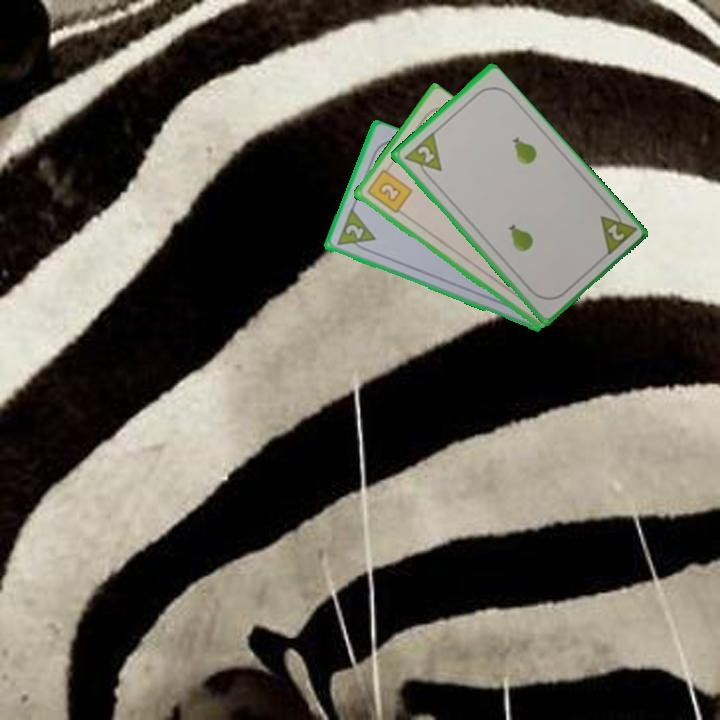2b: (363, 162, 415, 216)
2p: (596, 203, 638, 259), (333, 206, 378, 256), (413, 142, 437, 166)
